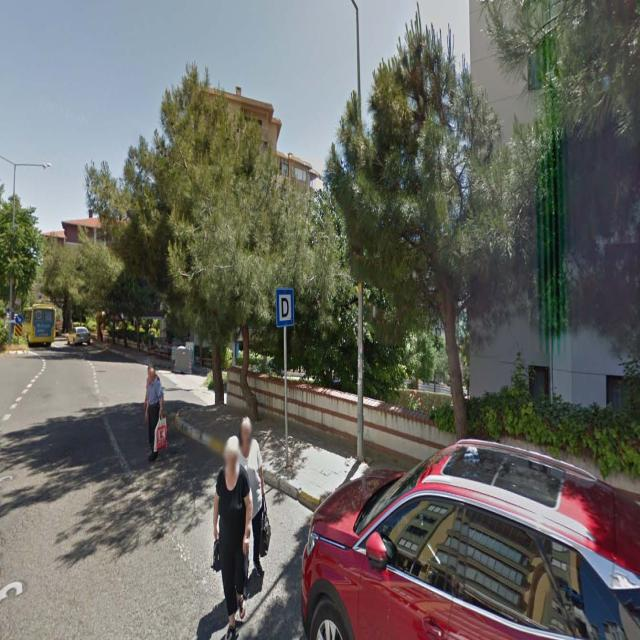durak: (277, 289, 293, 326)
